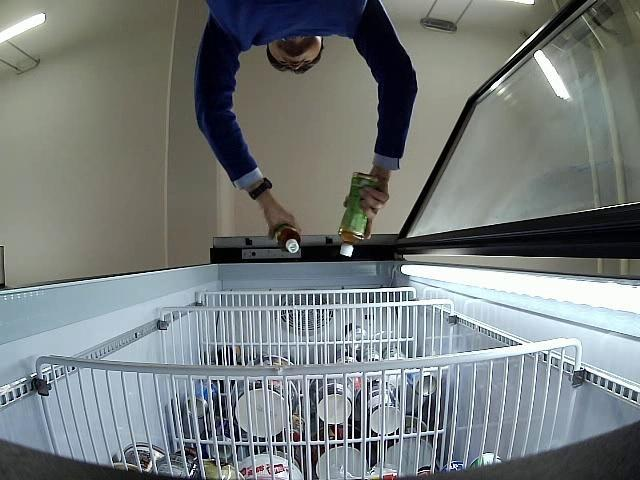19_17cha: (340, 168, 382, 258), (272, 225, 302, 253)
